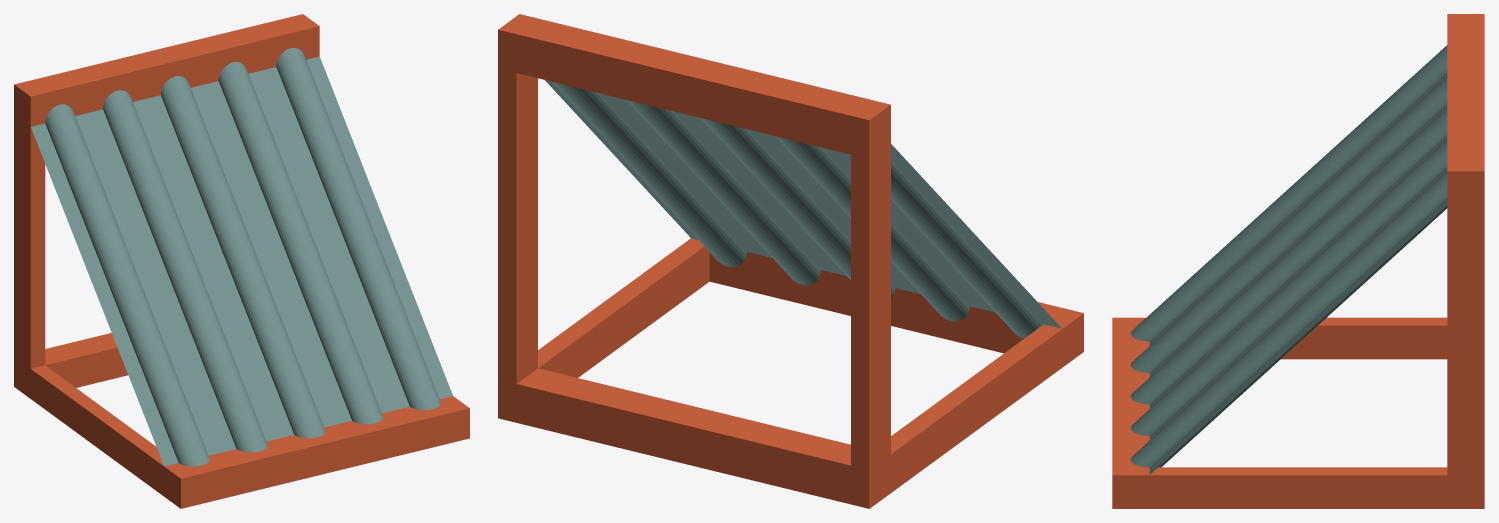
Rendered from Japanese roof middle.fbx.
3 renders of one model, left to right at view 1: azimuth 30°, elevation 25°; view 2: azimuth 150°, elevation 25°; view 3: azimuth 270°, elevation 25°, orthographic. The views are drawn at different scales.
Visible parts, largest first — view 1: Cube, Plane.001, Plane, Cylinder, Cylinder.002, Cylinder.001, Cylinder.003, Cylinder.004; view 2: Cube, Plane, Cylinder.003, Cylinder.004, Cylinder, Cylinder.002, Cylinder.001, Plane.001; view 3: Cube, Cylinder.004, Cylinder, Cylinder.002, Cylinder.003, Cylinder.001, Plane.001, Plane.
Boxes of the visible parts, x1,y1,x2,y2 form: Cube: (14, 14, 469, 508); Plane.001: (31, 56, 413, 391); Plane: (103, 211, 452, 466); Cylinder: (45, 104, 209, 466); Cylinder.002: (161, 76, 325, 438); Cylinder.001: (103, 90, 267, 452); Cylinder.003: (218, 62, 382, 424); Cylinder.004: (276, 48, 440, 410); Cube: (498, 14, 1083, 508); Plane: (545, 80, 1019, 282); Cylinder.003: (626, 100, 820, 285); Cylinder.004: (552, 82, 746, 267); Cylinder: (849, 154, 1043, 338); Cylinder.002: (701, 118, 895, 298); Cylinder.001: (775, 136, 969, 321); Plane.001: (654, 195, 1061, 328); Cube: (1112, 14, 1484, 508); Cylinder.004: (1130, 171, 1447, 467); Cylinder: (1130, 45, 1447, 341); Cylinder.002: (1130, 108, 1447, 404); Cylinder.003: (1130, 140, 1447, 435); Cylinder.001: (1130, 77, 1447, 372); Plane.001: (1154, 72, 1447, 469); Plane: (1149, 236, 1267, 474).
Size of the model in its own units: 100 by 100 by 100.
